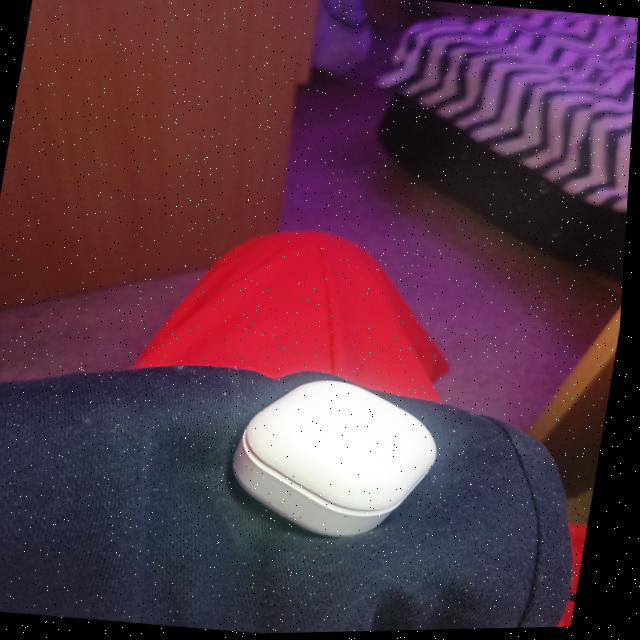headphones: (238, 382, 442, 538)
